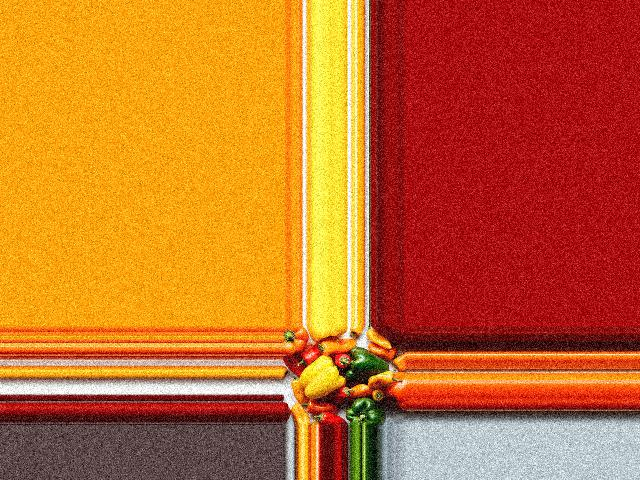bell_pepper: (312, 408, 344, 425)
